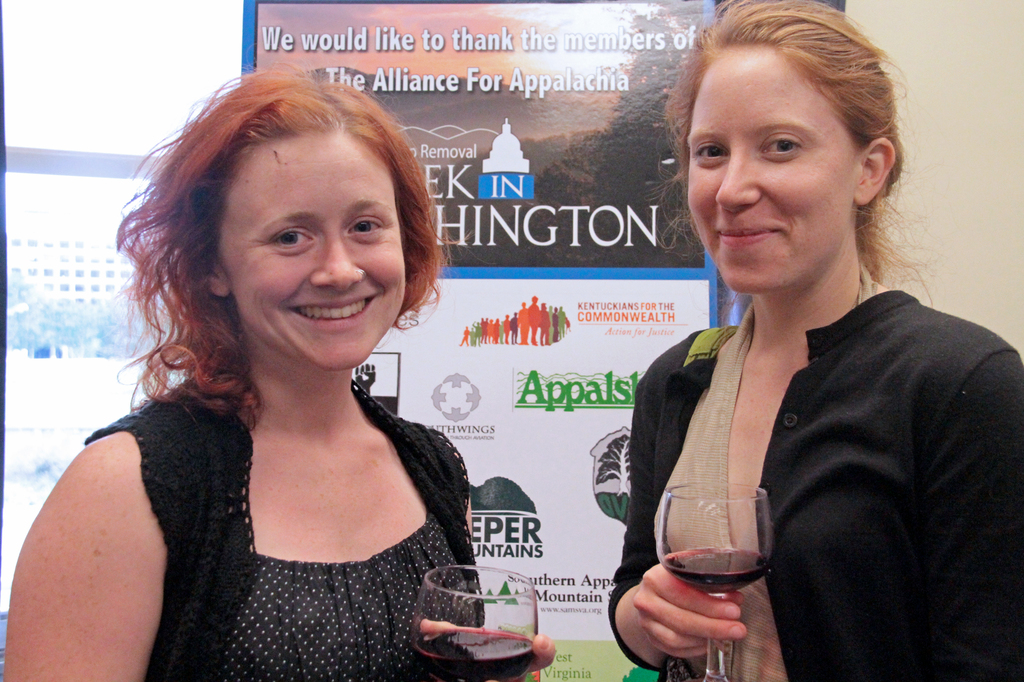Human_hand: (624, 566, 736, 665), (417, 619, 557, 681)
